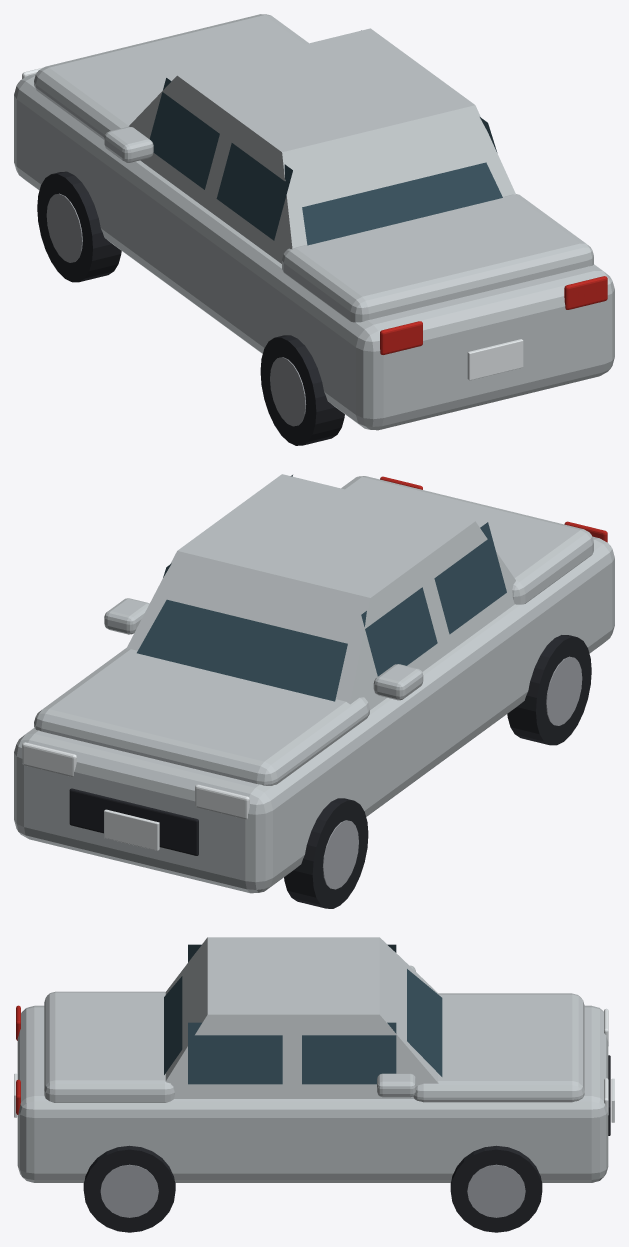
File: CityCar.fbx
3 views of the same model, one above another, from view 1: azimuth 30°, elevation 25°; view 2: azimuth 150°, elevation 25°; view 3: azimuth 270°, elevation 25° (orthographic). The views are drawn at different scales.
Parts seen in each view (by area): view 1: Body sill, Cabin shell, Rear deck, Front bonnet, Rear window, Road tyre.001, Road tyre, Side glass, Side glass.001, 柱体.001, 柱体, Rear plate (+3 smaller); view 2: Body sill, Cabin shell, Front bonnet, Windscreen, Rear deck, Road tyre, Road tyre.001, Side glass, Side glass.001, Grille, 柱体, 柱体.001 (+5 smaller); view 3: Body sill, Cabin shell, Front bonnet, Rear deck, Side glass.002, Side glass.003, Road tyre.002, Road tyre.003, Windscreen, 柱体.003, 柱体.002, Rear window (+1 smaller).
Boxes of the visible parts, bbox=[...] form: Body sill: bbox=[14, 73, 614, 430]; Cabin shell: bbox=[129, 28, 515, 263]; Rear deck: bbox=[282, 194, 593, 322]; Front bonnet: bbox=[34, 14, 308, 139]; Rear window: bbox=[302, 162, 502, 245]; Road tyre.001: bbox=[37, 171, 121, 282]; Road tyre: bbox=[260, 335, 344, 445]; Side glass: bbox=[216, 143, 292, 240]; Side glass.001: bbox=[149, 78, 219, 189]; 柱体.001: bbox=[46, 193, 82, 262]; 柱体: bbox=[270, 357, 306, 426]; Rear plate: bbox=[467, 339, 523, 380]; Body sill: bbox=[14, 536, 614, 893]; Cabin shell: bbox=[126, 474, 515, 709]; Front bonnet: bbox=[34, 648, 369, 785]; Windscreen: bbox=[137, 599, 347, 701]; Rear deck: bbox=[341, 476, 593, 604]; Road tyre: bbox=[507, 635, 591, 745]; Road tyre.001: bbox=[284, 798, 368, 908]; Side glass: bbox=[434, 522, 506, 634]; Side glass.001: bbox=[361, 587, 437, 676]; Grille: bbox=[69, 788, 198, 855]; 柱体: bbox=[546, 656, 582, 725]; 柱体.001: bbox=[322, 820, 358, 889]; Body sill: bbox=[17, 1005, 608, 1182]; Cabin shell: bbox=[165, 937, 438, 1098]; Front bonnet: bbox=[413, 993, 584, 1102]; Rear deck: bbox=[44, 991, 174, 1102]; Side glass.002: bbox=[188, 1022, 282, 1084]; Side glass.003: bbox=[302, 1022, 396, 1084]; Road tyre.002: bbox=[83, 1145, 175, 1232]; Road tyre.003: bbox=[450, 1145, 542, 1232]; Windscreen: bbox=[407, 969, 442, 1076]; 柱体.003: bbox=[467, 1164, 525, 1217]; 柱体.002: bbox=[100, 1164, 158, 1217]; Rear window: bbox=[164, 976, 182, 1074].
Bounding box in the file's own units: 205 × 160 × 433.
